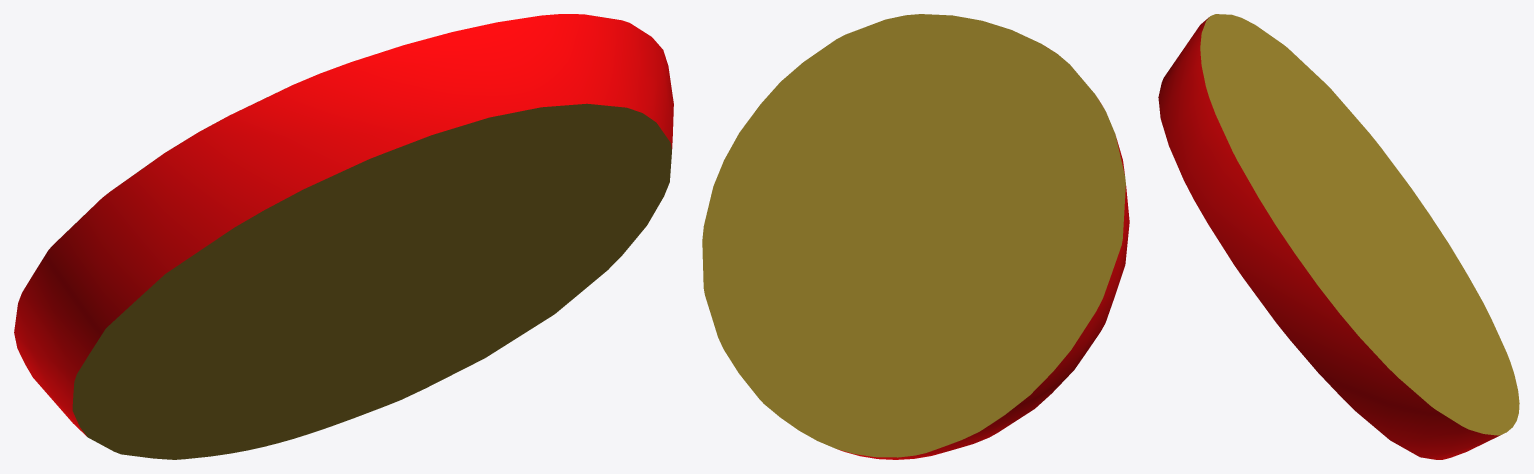
File: apple02.fbx
The picture shows the model from 3 angles, left to right: view 1: azimuth 30°, elevation 25°; view 2: azimuth 150°, elevation 25°; view 3: azimuth 270°, elevation 25°; orthographic projection. The views are drawn at different scales.
Parts seen in each view (by area): view 1: apple02; view 2: apple02; view 3: apple02.
Boxes of the visible parts, <box> form: apple02: <box>14,14,673,459</box>; apple02: <box>702,14,1129,459</box>; apple02: <box>1158,14,1519,459</box>.
Bounding box in the file's own units: 0.1844 × 0.1542 × 0.1304.
